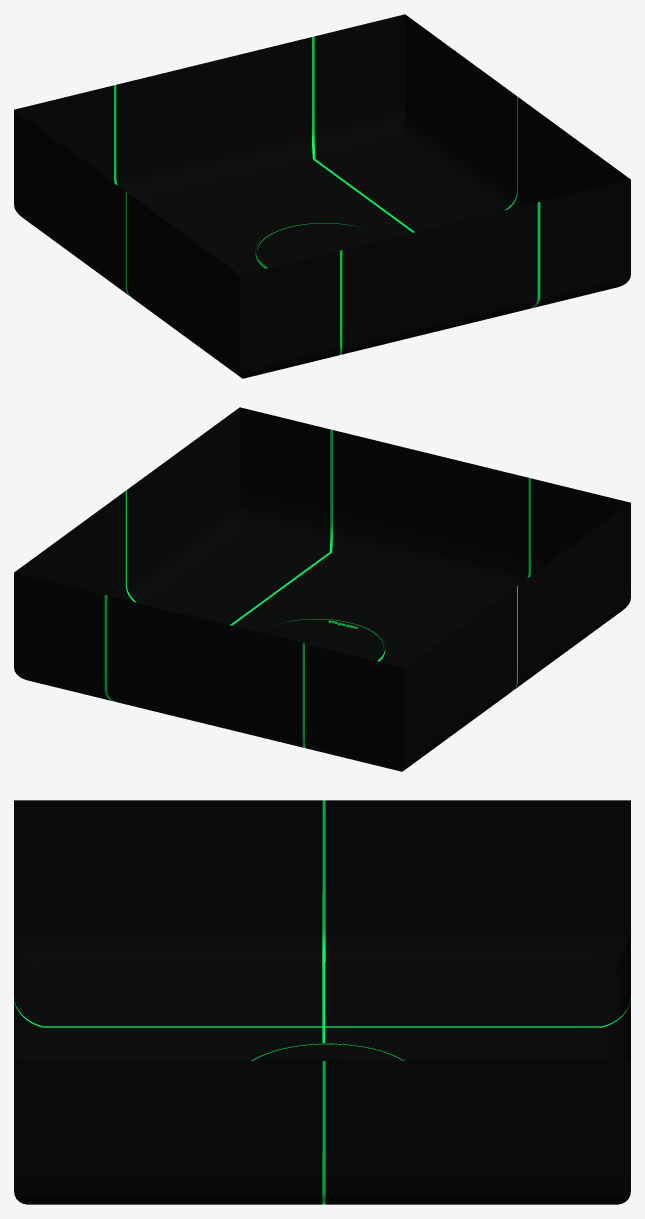
The picture shows the model from 3 angles, top to bottom: view 1: azimuth 30°, elevation 25°; view 2: azimuth 150°, elevation 25°; view 3: azimuth 270°, elevation 25°; orthographic projection. The views are drawn at different scales.
Parts seen in each view (by area): view 1: Plane, Cylinder; view 2: Plane, Cylinder; view 3: Plane, Cylinder.
Boxes of the visible parts, bbox=[...] form: Plane: bbox=[14, 14, 630, 378]; Cylinder: bbox=[255, 222, 386, 268]; Plane: bbox=[14, 407, 630, 771]; Cylinder: bbox=[258, 618, 385, 661]; Plane: bbox=[14, 800, 630, 1204]; Cylinder: bbox=[249, 1043, 406, 1060].
Size of the model in its own units: 8462 by 2369 by 8462.
1 material, 1 textured.
